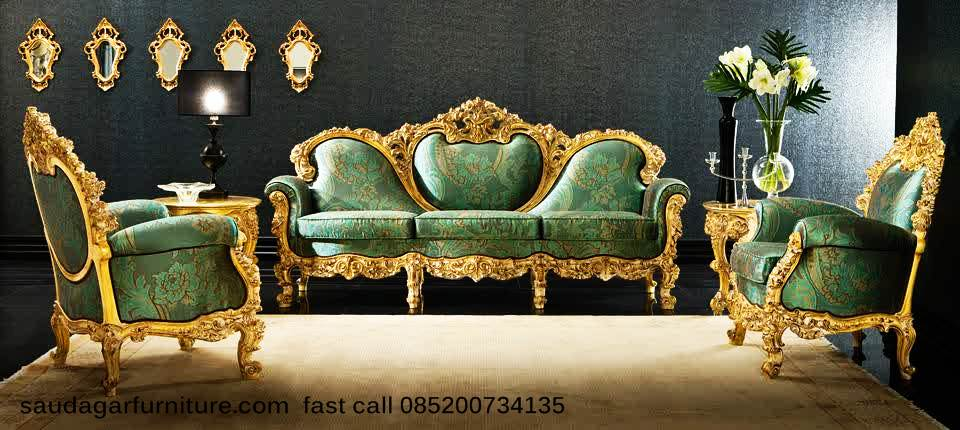Carving Chair: (262, 114, 698, 333), (8, 97, 281, 420), (722, 124, 950, 408)
